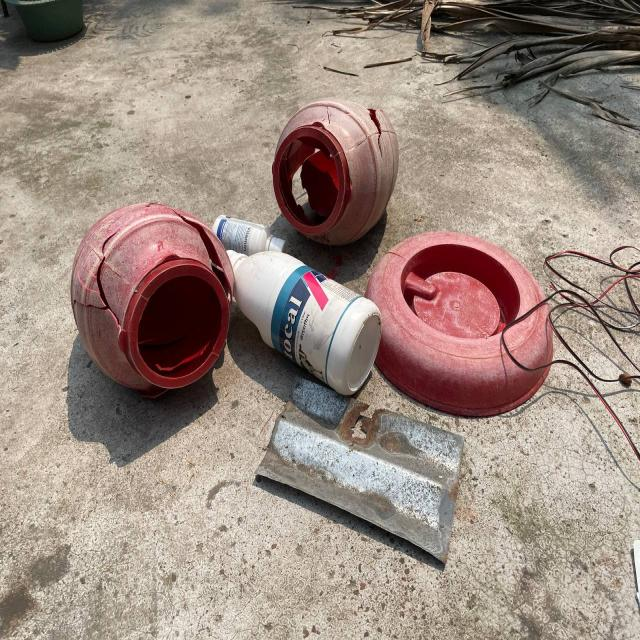Cable: (531, 198, 640, 490)
Metal: (240, 380, 491, 583)
Plastics: (52, 71, 525, 394)
